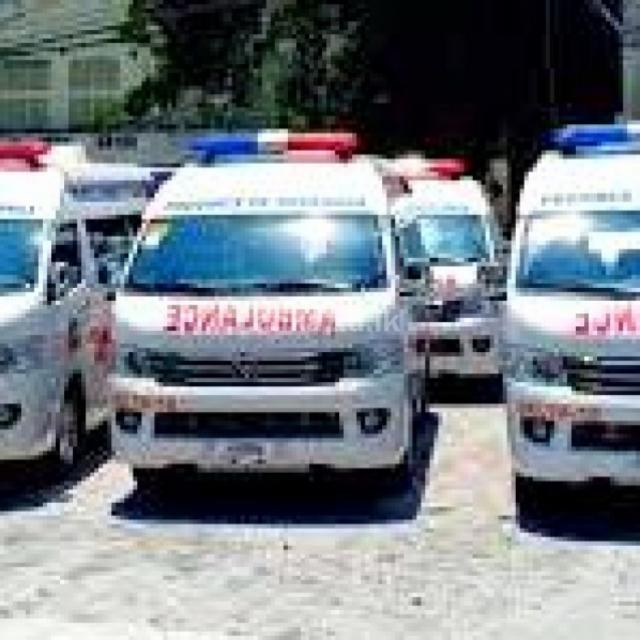emergency-vehicle: (82, 105, 446, 530)
